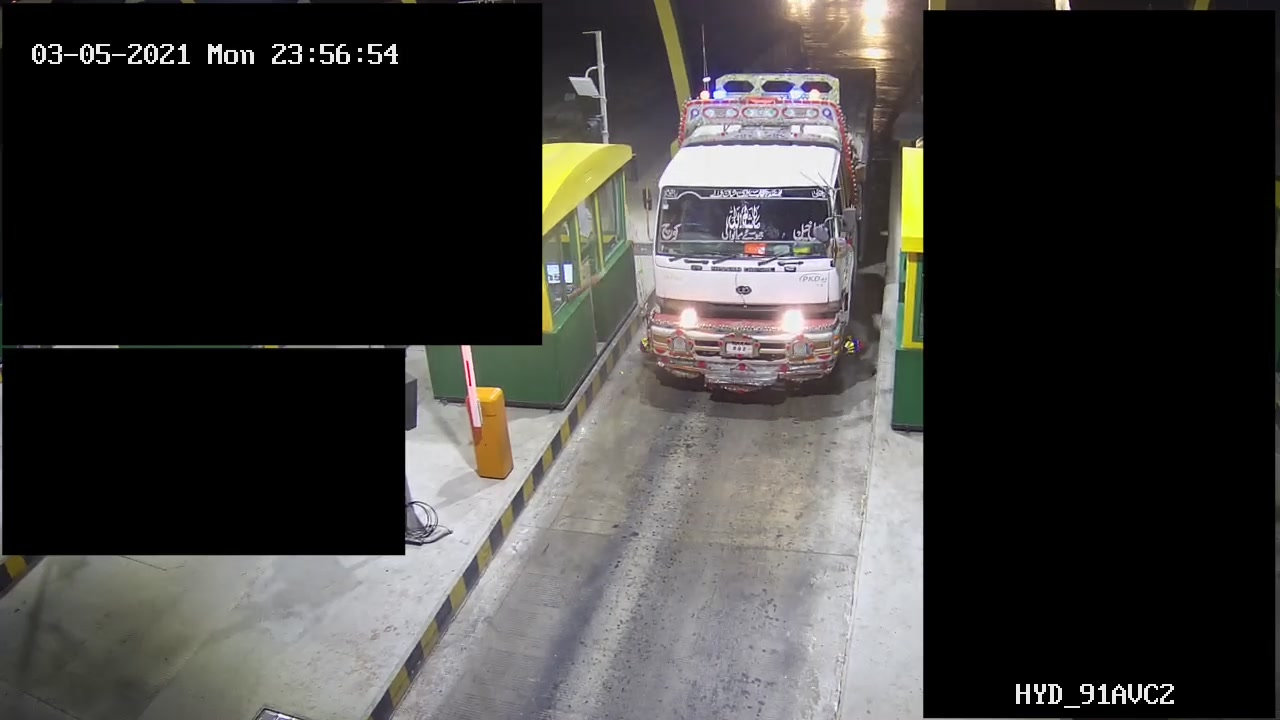F6: (628, 57, 885, 405)
